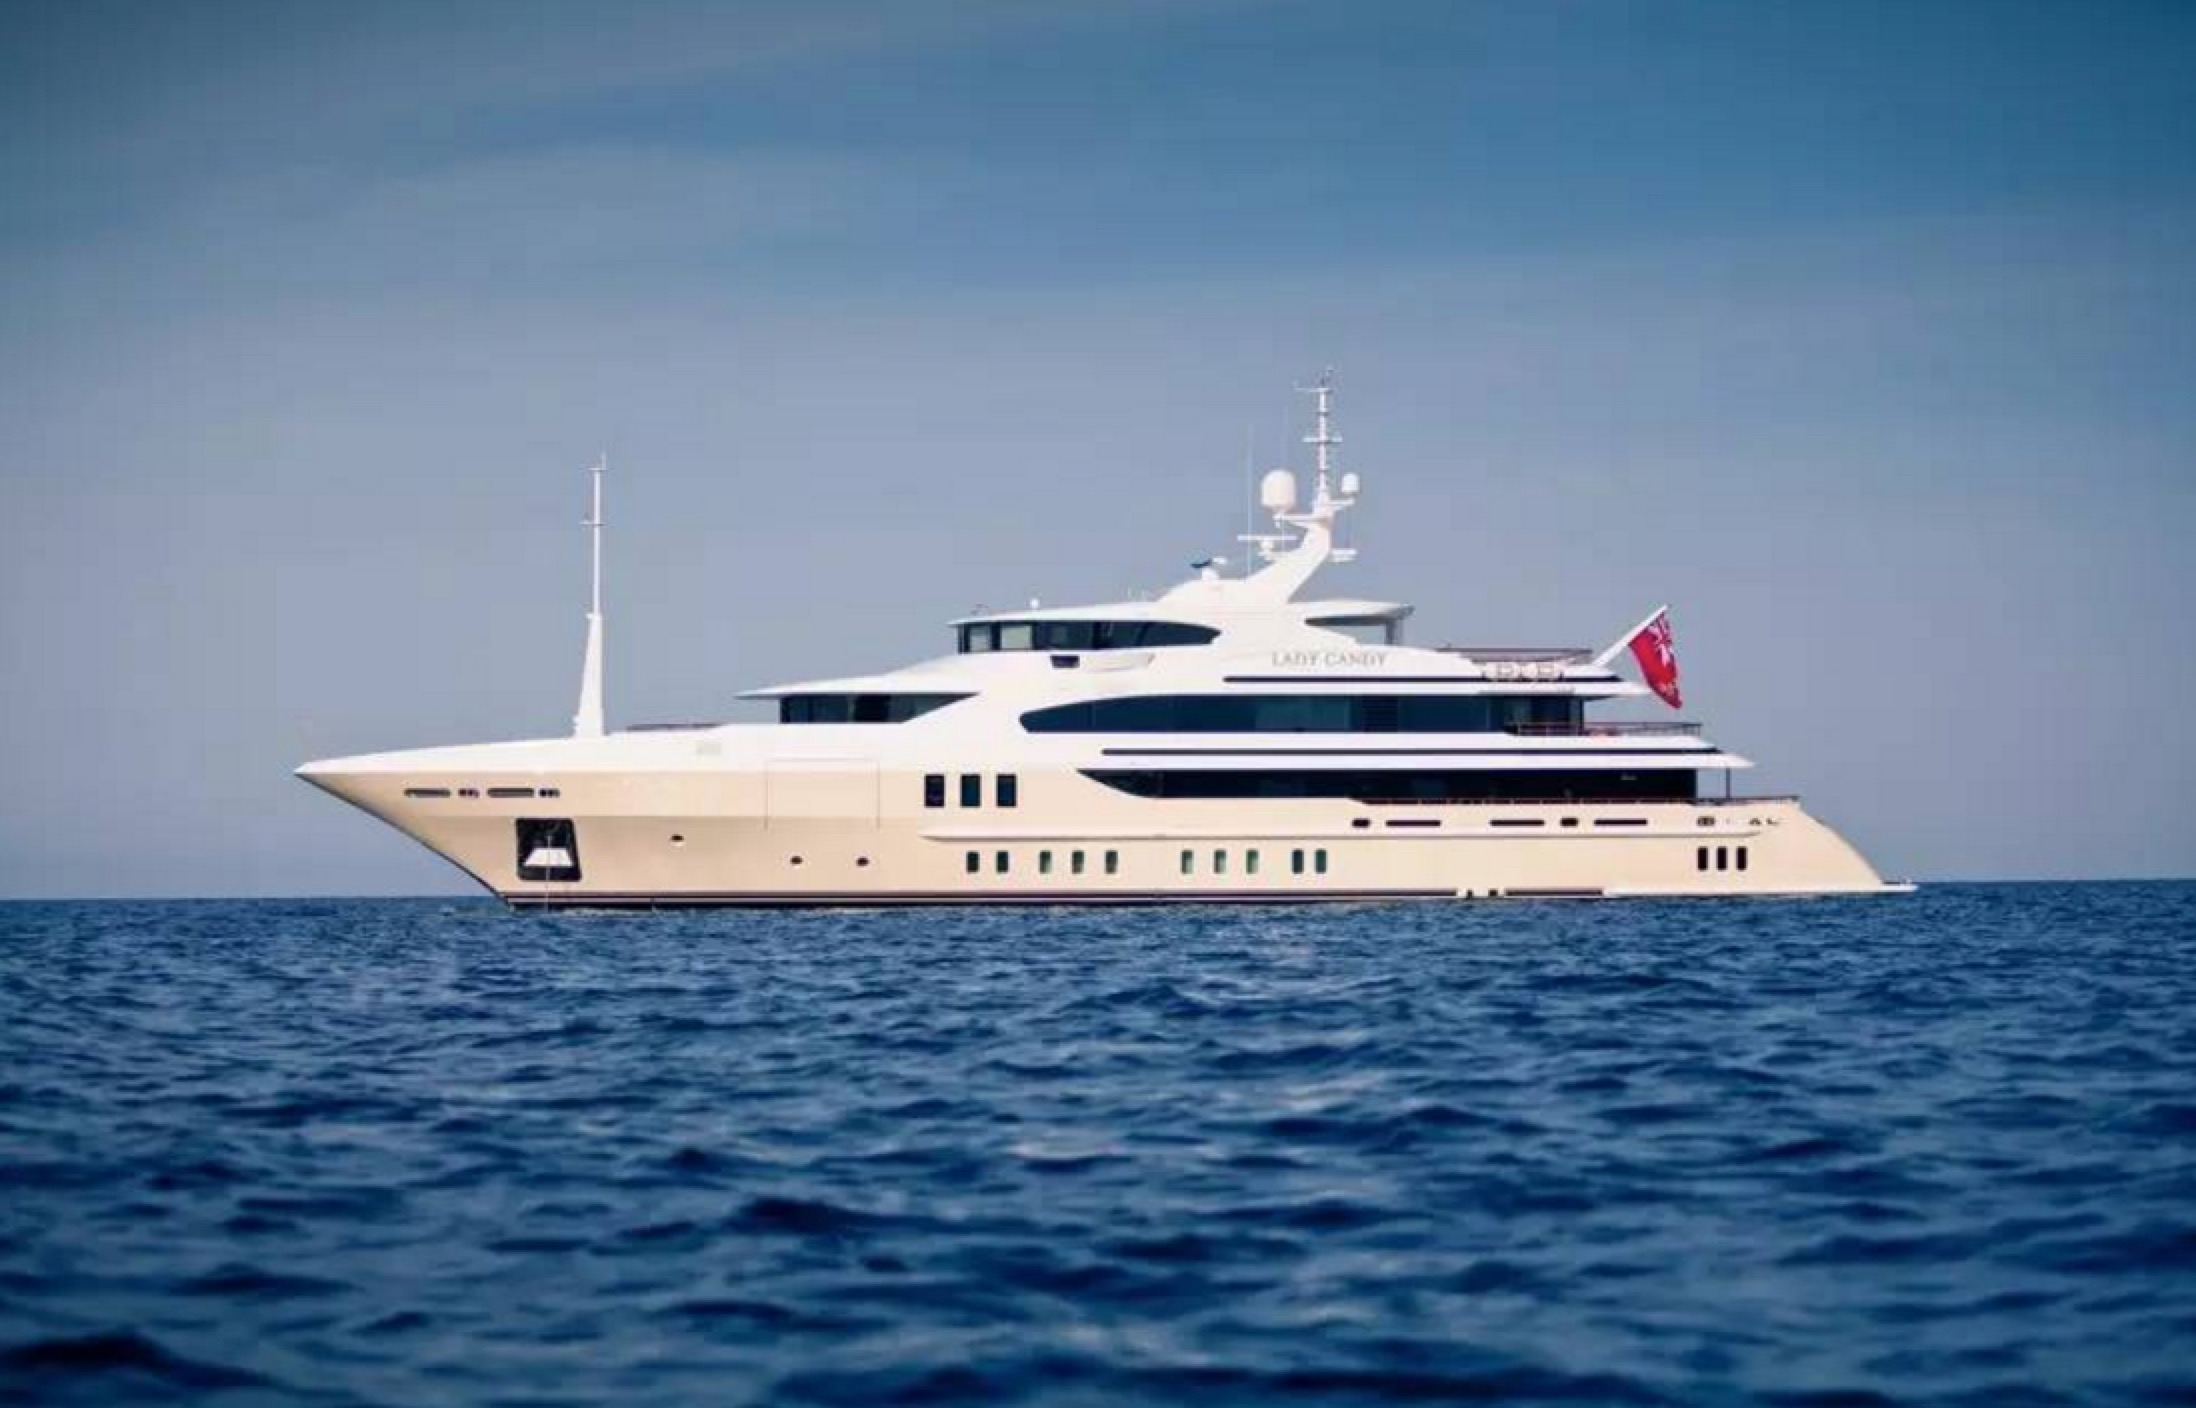yacht: (293, 429, 1937, 910)
